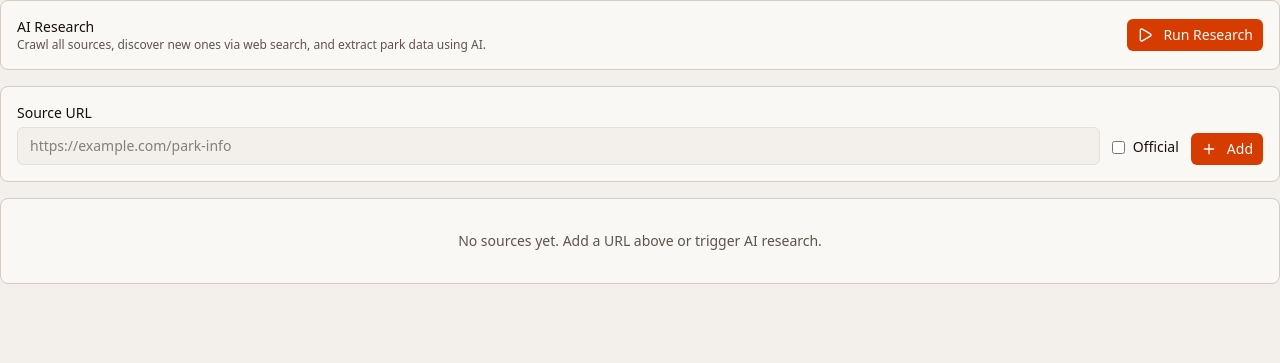
Test: SourceManagementTable › shows generic research error when fetch throws
This screenshot has width=1280, height=363.
Click the button "Run Research": (1195, 35) [1127,19,1263,51]
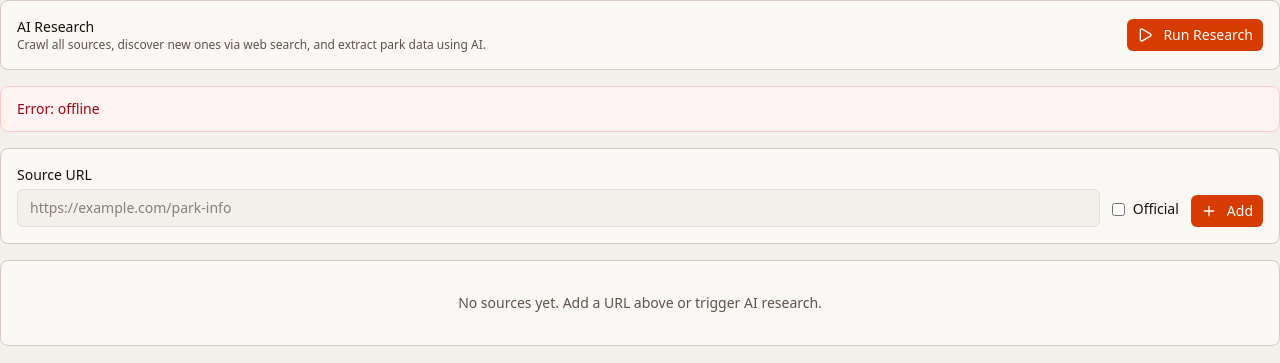
Expected: the text "Error: offline" is shown, [0,86,1279,132]
